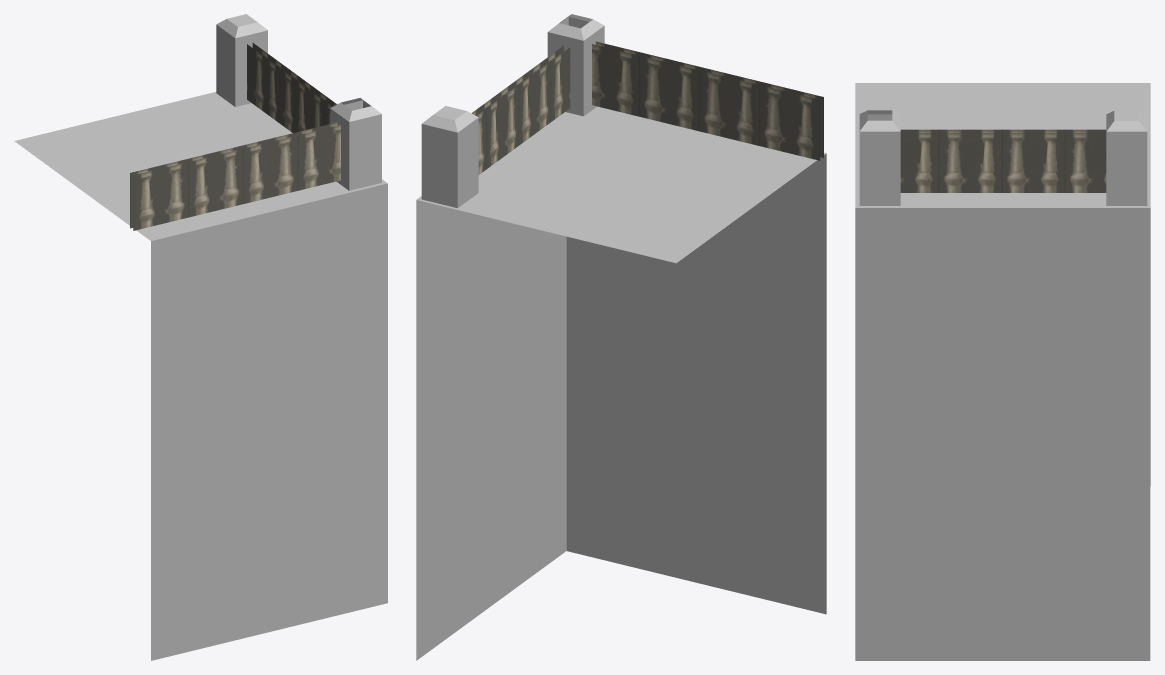
The model's file is thm_nboo_thed_imprv_seawall_corner_s01_l2.fbx.
The picture shows the model from 3 angles, left to right: view 1: azimuth 30°, elevation 25°; view 2: azimuth 150°, elevation 25°; view 3: azimuth 270°, elevation 25°; orthographic projection. The views are drawn at different scales.
Parts seen in each view (by area): view 1: mesh_node; view 2: mesh_node; view 3: mesh_node.
Boxes of the visible parts, x1=… form: mesh_node: x1=14, y1=14, x2=387, y2=660; mesh_node: x1=416, y1=14, x2=826, y2=660; mesh_node: x1=855, y1=83, x2=1150, y2=660.
Size of the model in its own units: 3.72 by 7.2 by 3.6.
